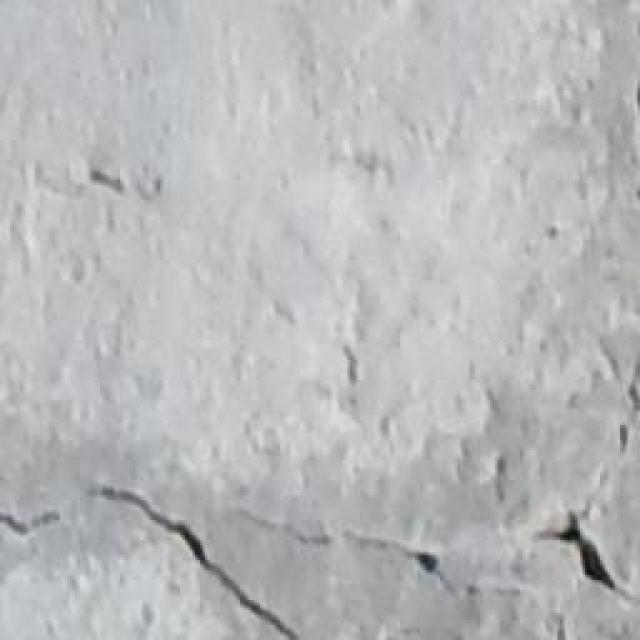concrete-crack: (93, 479, 302, 640), (230, 508, 456, 602), (535, 506, 619, 592), (2, 506, 69, 545)
